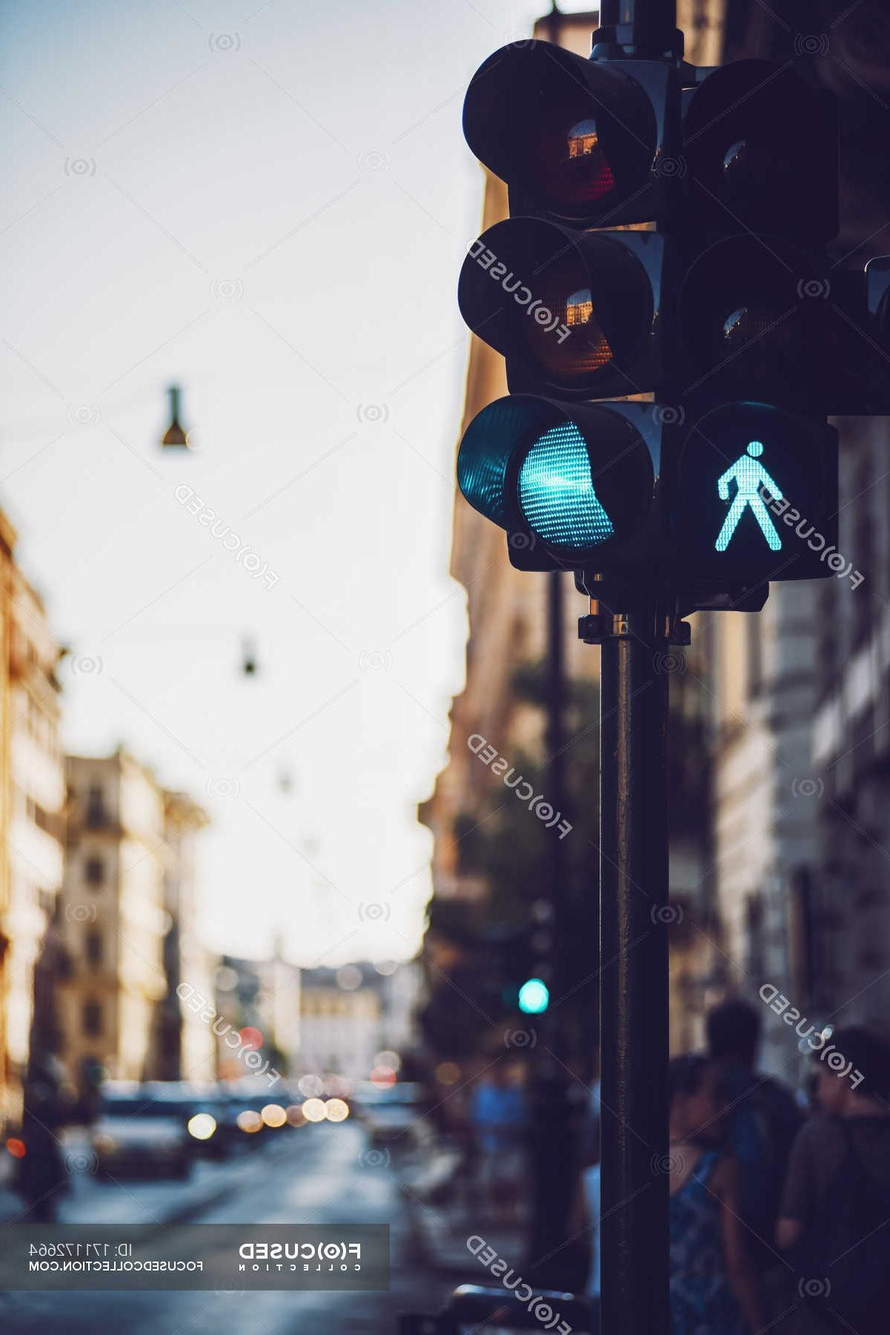green: (463, 26, 689, 608)
